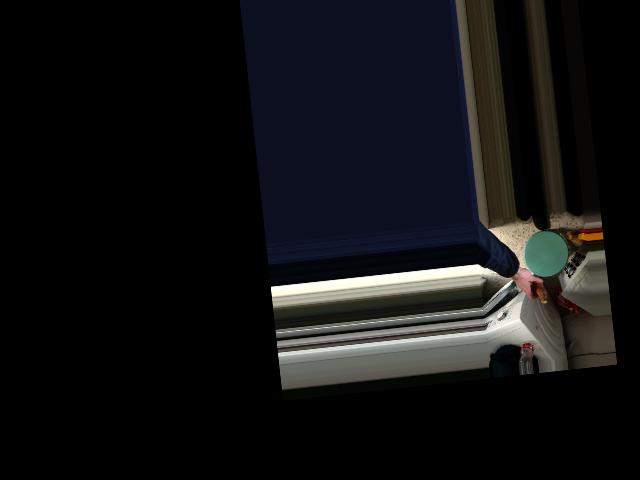sweet_potato: (523, 266, 547, 304)
